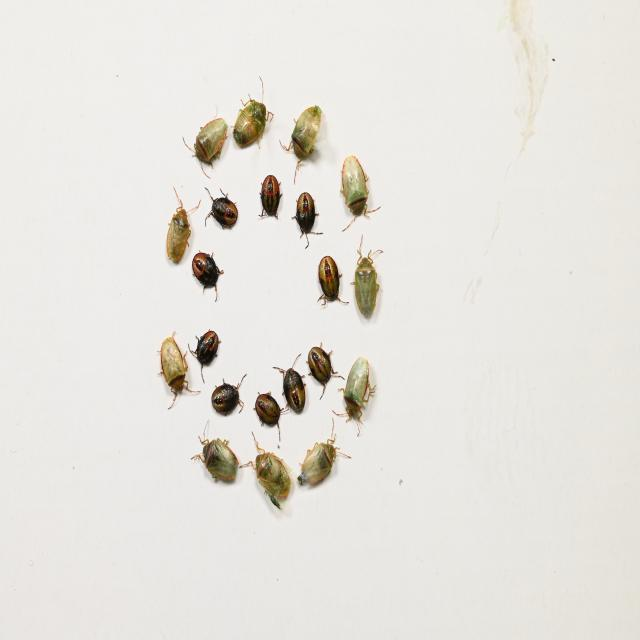stinkbug: (293, 416, 352, 493), (236, 430, 291, 512), (329, 355, 382, 438), (188, 416, 241, 494), (336, 149, 382, 233), (230, 70, 275, 155), (280, 101, 324, 186), (181, 117, 229, 182), (353, 232, 384, 328), (155, 330, 188, 410), (162, 184, 190, 267)
